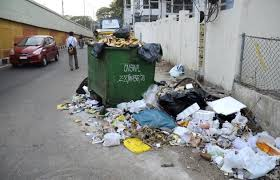garbage: (90, 101, 249, 144), (198, 103, 274, 177), (149, 81, 228, 151)
